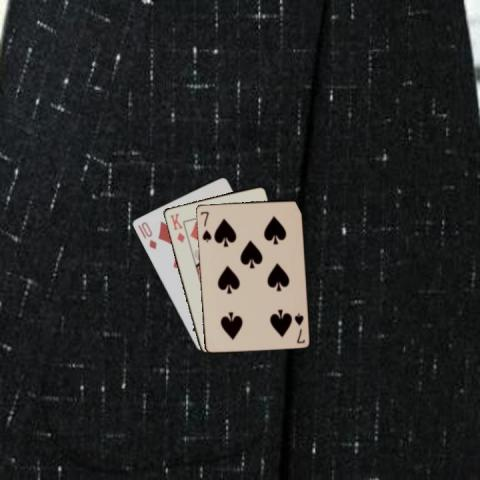10d: (138, 218, 158, 250)
7s: (197, 208, 213, 243), (291, 310, 306, 344)
Kd: (167, 210, 186, 244)
